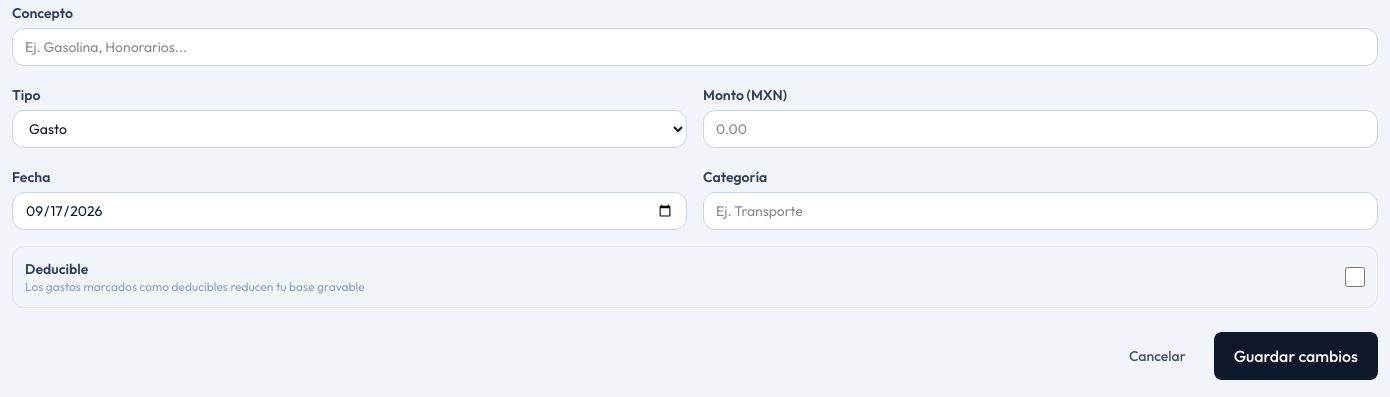
Test case: FormularioMovimiento › cambiar el tipo a Ingreso desactiva el campo Deducible
Expected: the checkbox labelled "Deducible" is enabled, [1345,267,1365,287]
Select "Ingreso" in the dropdown labelled "Tipo" at x=350, y=129, box [12,110,687,148]
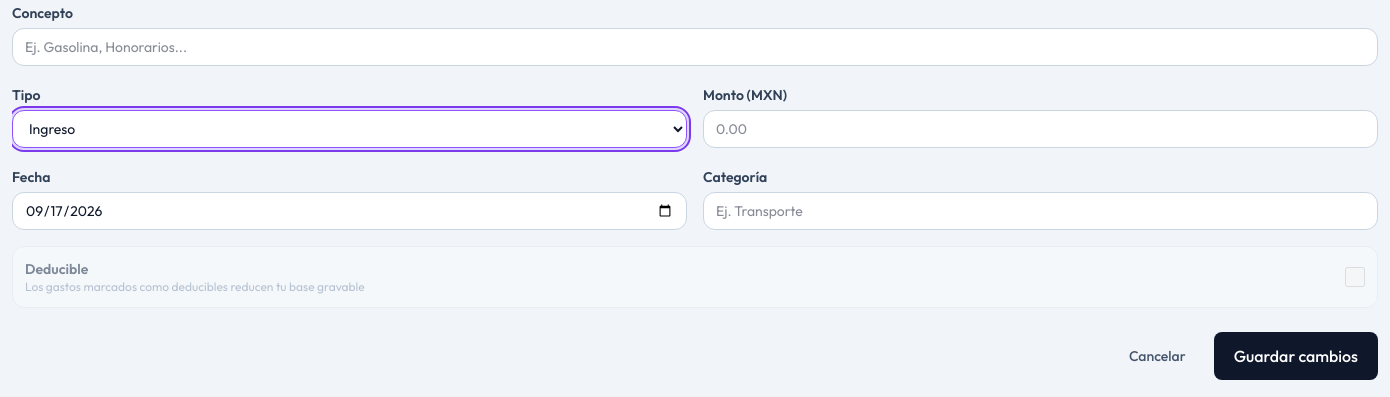
Expected: the checkbox labelled "Deducible" is disabled, [1345,267,1365,287]
